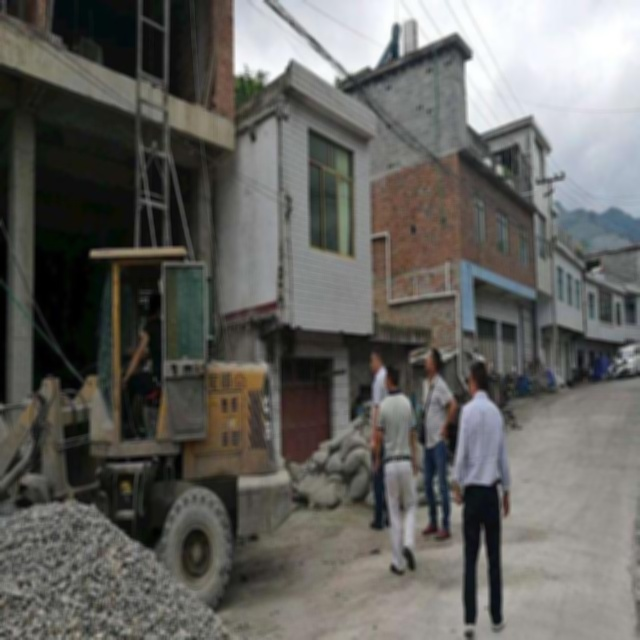Sin_Chaleco: (458, 390, 507, 490), (377, 392, 415, 468)
